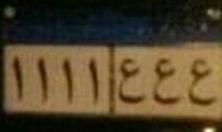1: (58, 55, 78, 104), (86, 55, 103, 106), (10, 55, 26, 104), (36, 54, 50, 108)
ain: (187, 54, 220, 112), (150, 54, 184, 109), (117, 56, 148, 108)
